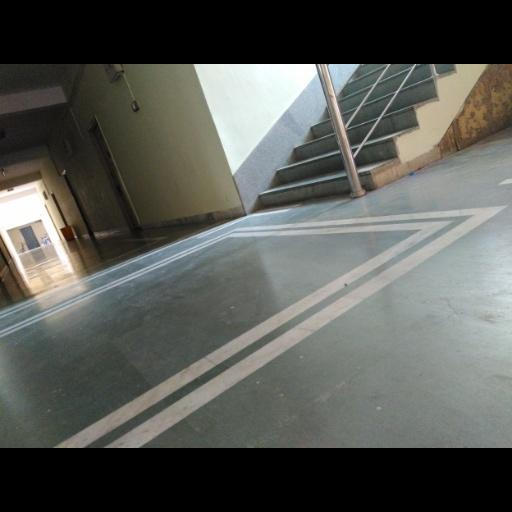stairs: (337, 64, 436, 189)
